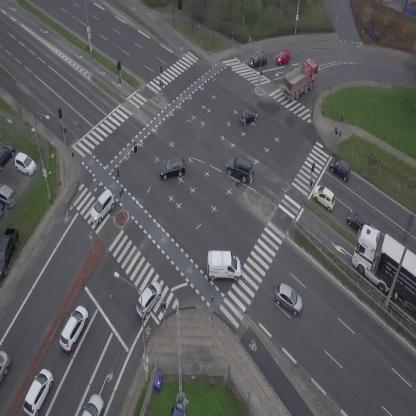car: (54, 303, 94, 353), (18, 366, 58, 416), (130, 278, 167, 320), (84, 188, 121, 226), (269, 281, 308, 316), (220, 152, 258, 185), (309, 183, 340, 212), (326, 154, 356, 182), (343, 208, 372, 235), (156, 155, 187, 180), (82, 394, 104, 416), (247, 50, 269, 67), (273, 48, 292, 66), (0, 351, 10, 383), (240, 108, 257, 125)
lorry: (275, 56, 327, 104), (207, 250, 241, 280)
